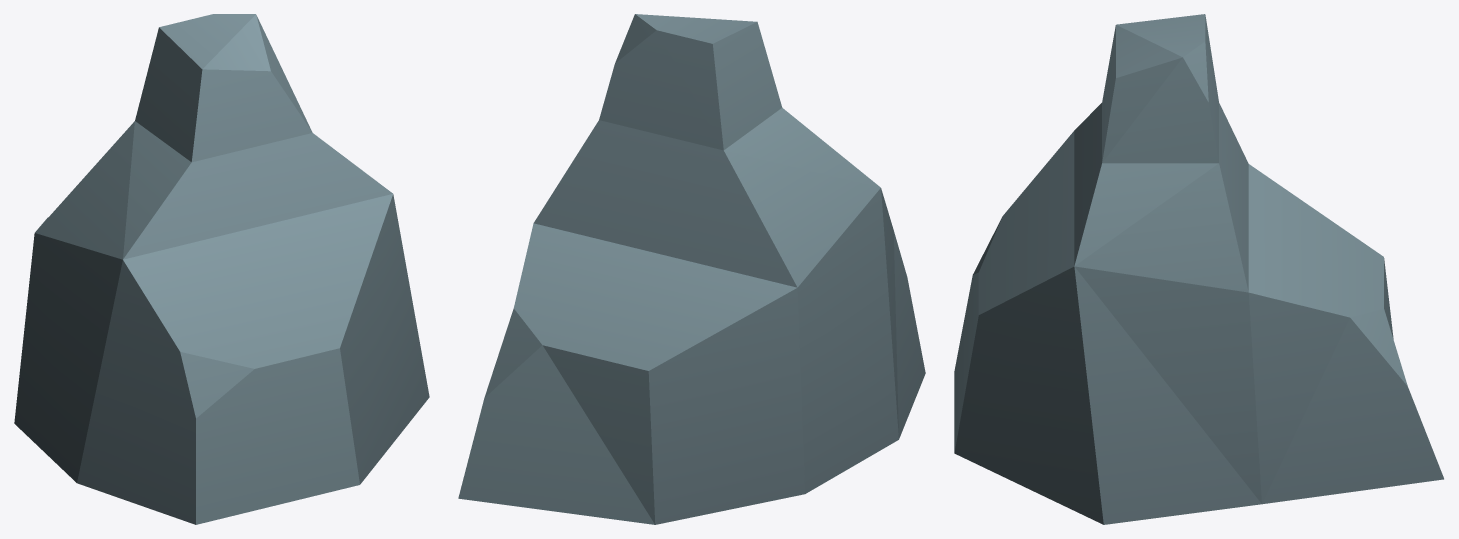
Rendered from Rock09.fbx.
3 views of the same model, side by side, from view 1: azimuth 30°, elevation 25°; view 2: azimuth 150°, elevation 25°; view 3: azimuth 270°, elevation 25° (orthographic). The views are drawn at different scales.
Visible parts, largest first — view 1: MediumRock; view 2: MediumRock; view 3: MediumRock.
Boxes of the visible parts, bbox=[...] form: MediumRock: bbox=[14, 14, 429, 524]; MediumRock: bbox=[458, 14, 925, 524]; MediumRock: bbox=[954, 14, 1443, 524].
Bounding box in the file's own units: 180 × 189 × 210.
